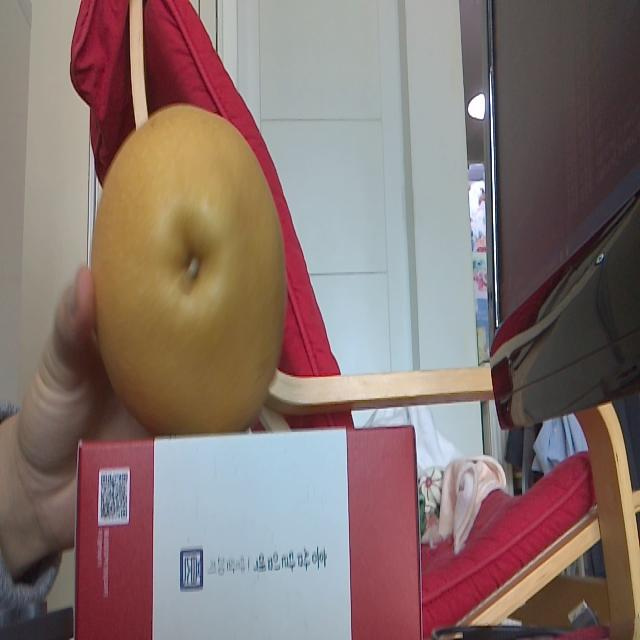pear: (89, 95, 290, 434)
